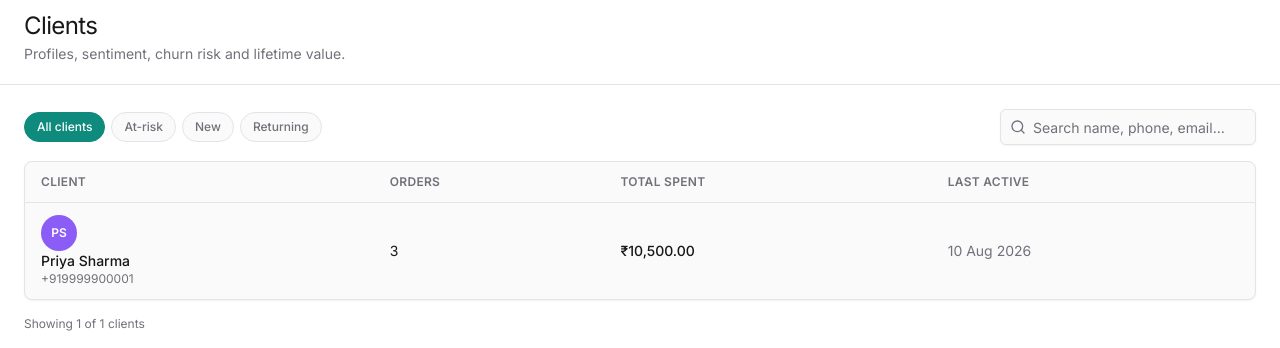
Test: ClientsPage — segments and search › names the active segment in the result count, but not for "all"
The width and height of the screenshot is (1280, 348).
Expected: the text "Showing 1 of 1 clients" is shown, [24,316,145,331]
Click the button "At-risk".
click(144, 127)  # box [111,112,176,142]
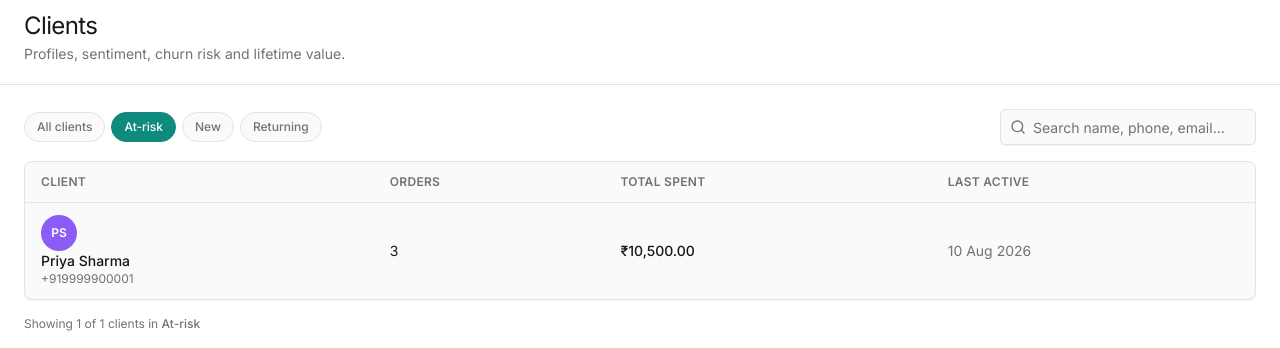
Now the text "At-risk" is shown, box [162,316,200,331]
